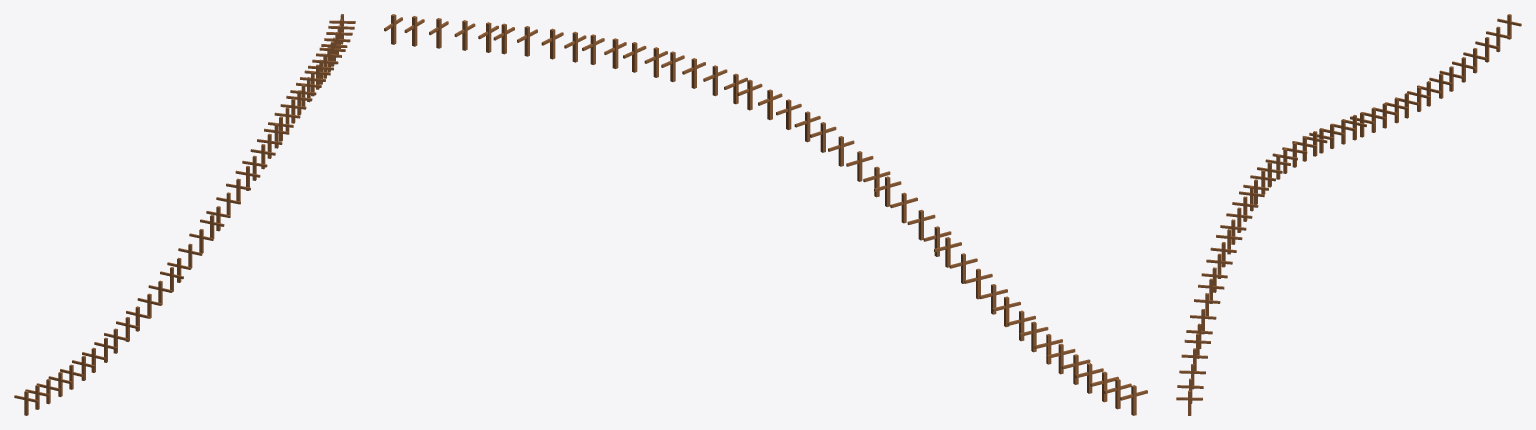
File: procgen-4c62ab19-post-xm1z0.obj
The picture shows the model from 3 angles, left to right: view 1: azimuth 90°, elevation 25°; view 2: azimuth 150°, elevation 25°; view 3: azimuth 270°, elevation 25°; orthographic projection. The views are drawn at different scales.
Size of the model in its own units: 51.42 by 5.34 by 19.62.
